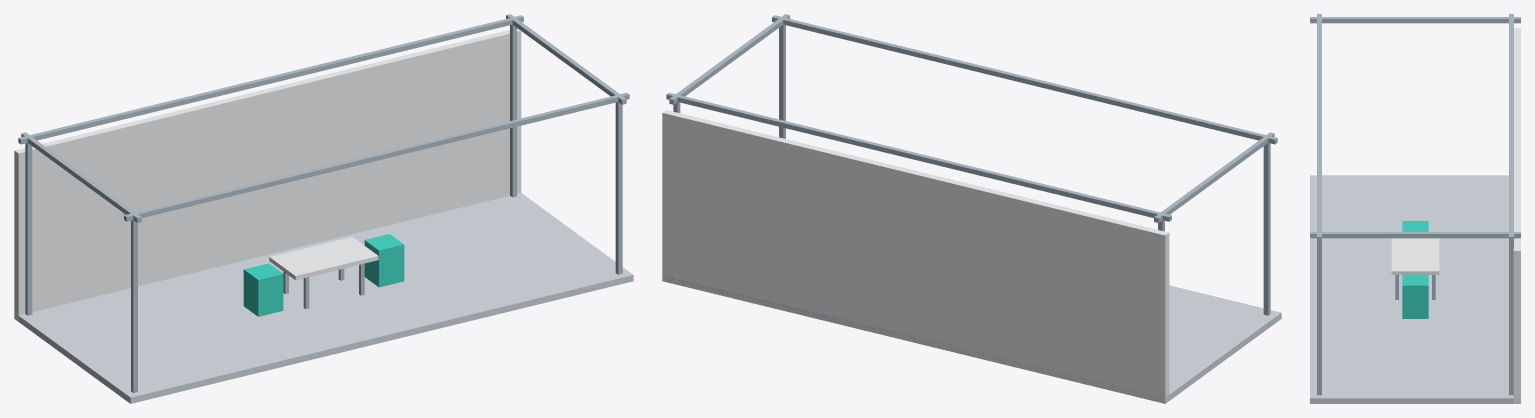
The picture shows the model from 3 angles, left to right: view 1: azimuth 30°, elevation 25°; view 2: azimuth 150°, elevation 25°; view 3: azimuth 270°, elevation 25°; orthographic projection. The views are drawn at different scales.
Parts seen in each view (by area): view 1: Exhibition Booth Concept; view 2: Exhibition Booth Concept; view 3: Exhibition Booth Concept.
Part boxes in pixels (x1,y1,x2,y2): Exhibition Booth Concept: [14, 14, 633, 403]; Exhibition Booth Concept: [662, 14, 1281, 403]; Exhibition Booth Concept: [1310, 14, 1520, 403].
Size of the model in its own units: 10 by 3.49 by 4.
